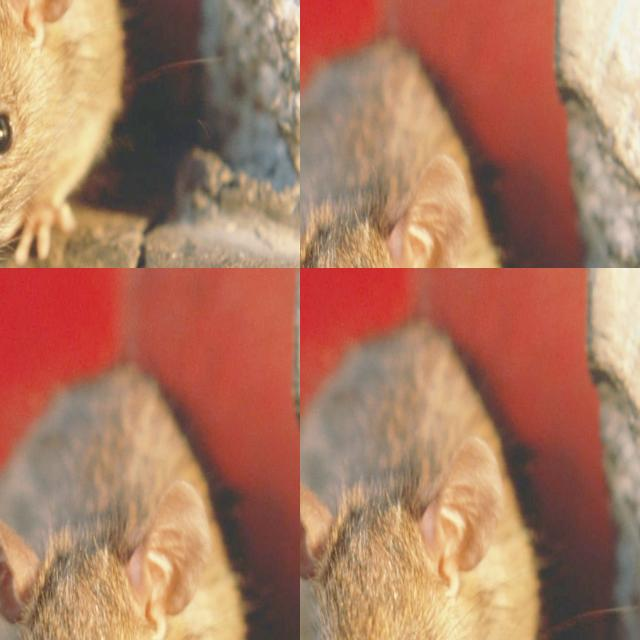rat: (307, 321, 533, 640), (135, 318, 300, 535), (550, 0, 640, 132)
